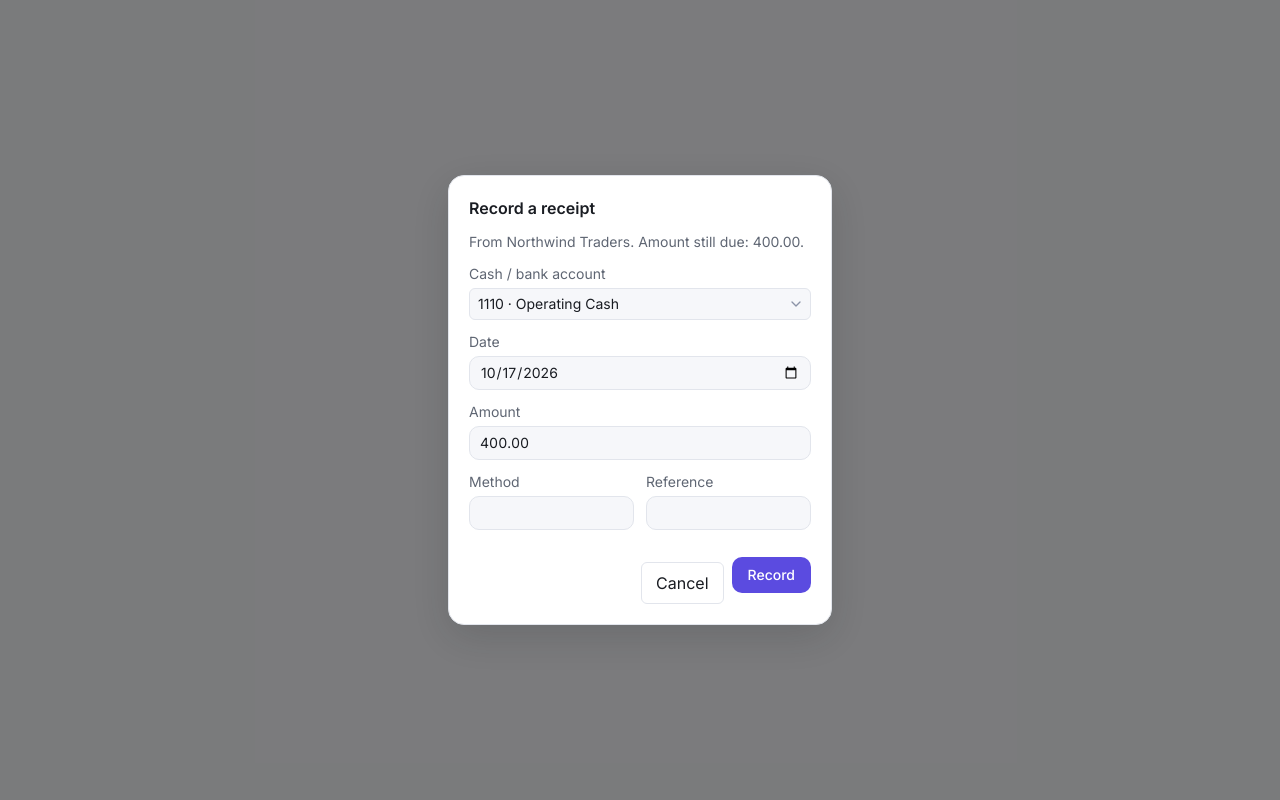
Test case: PaymentDialog › disables submit and shows the reason when the amount exceeds what is due
The width and height of the screenshot is (1280, 800).
Replace the text in the field labelled "Amount" with "500.00" at (640, 443), box [469, 426, 811, 460]
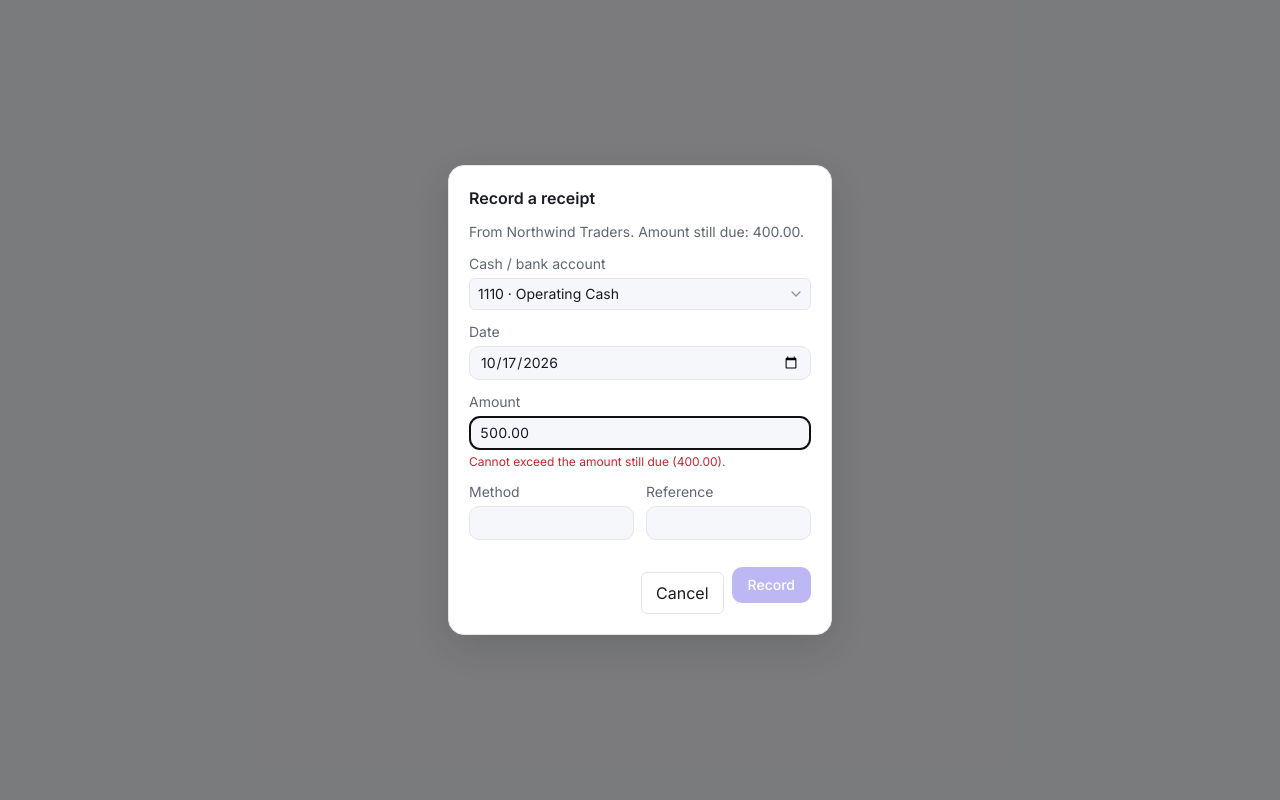
Expected: the button "Record" is disabled, [732, 567, 811, 603]
Expected: the text "Cannot exceed the amount still due (400.00)." is shown, [469, 454, 725, 469]
